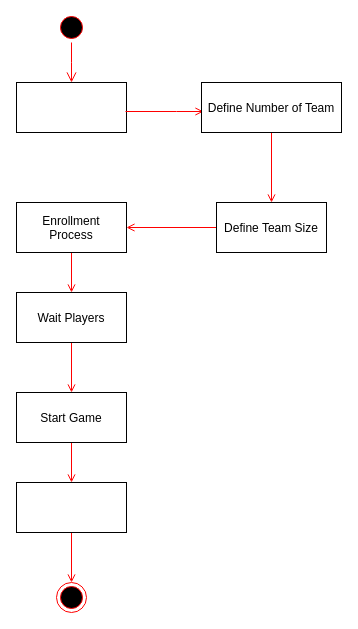
Image size: 358x629. Some labels were removed from this diagram. Each missing label, with the centre of its shape:
Select Map: point 71,107
Wait End Game: point 71,507
